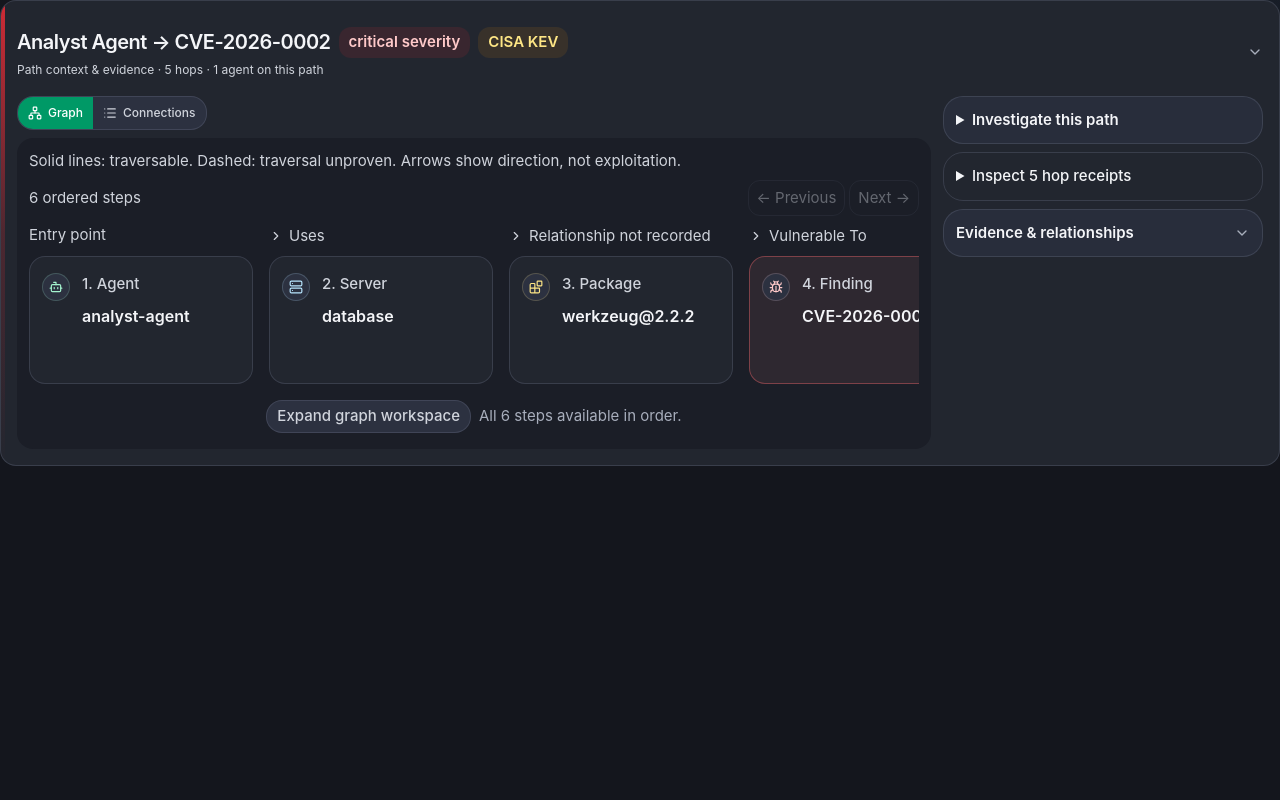
Test: ExposurePathCommandCenter › gives the title a full mobile row and keeps the summary readable
The width and height of the screenshot is (1280, 800).
Expected: the element that starts with "Analyst Agent →" is shown, [17,27,568,76]
Expected: the text "Agent reaches a vulnerable package through the database MCP server." is not shown
Click the heading "Evidence & relationships": (1103, 232) [956,222,1250,242]
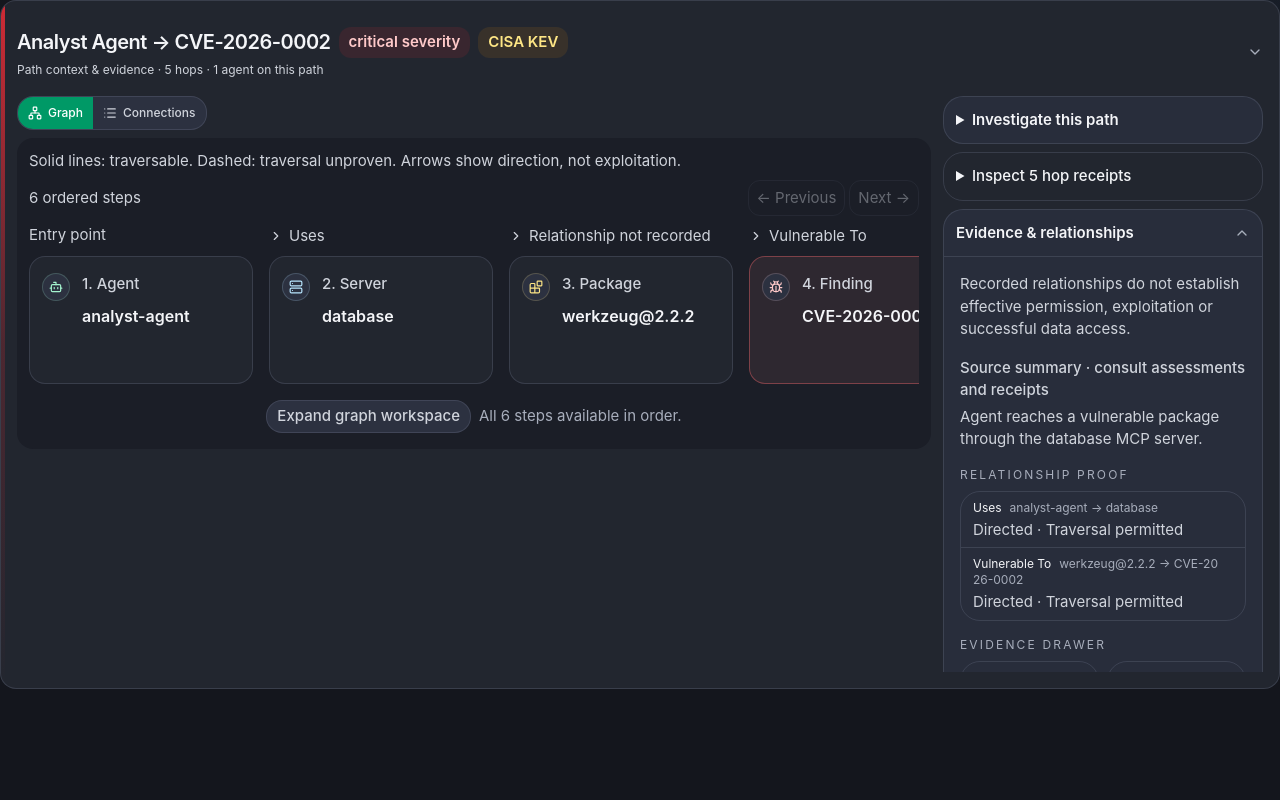
Expected: the text "Source summary · consult assessments and receipts" is shown, [960,356,1246,402]
Expected: the text "Agent reaches a vulnerable package through the database MCP server." is shown, [960,406,1246,450]
